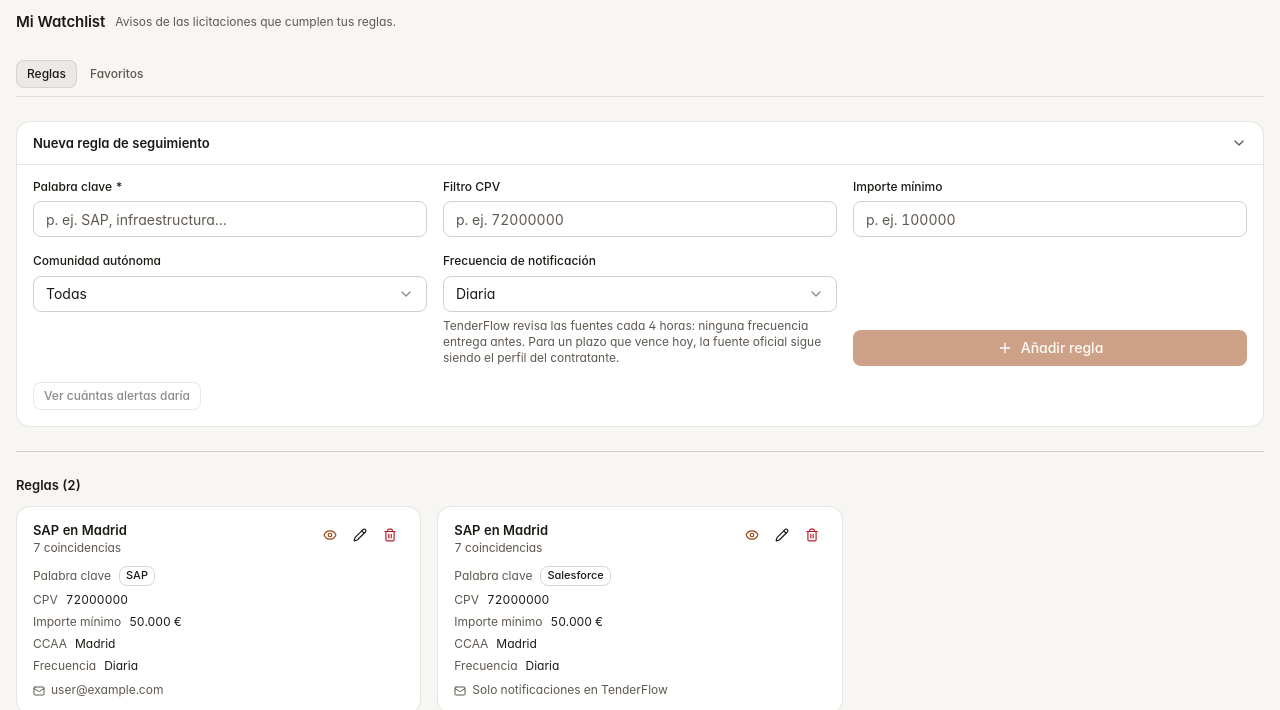
Scenario: MiWatchlistPage — edición de reglas › opens the edit sheet pre-filled with the rule's current values
Click the 1st button named "Editar regla" at [360, 535], box [346,521,374,549]
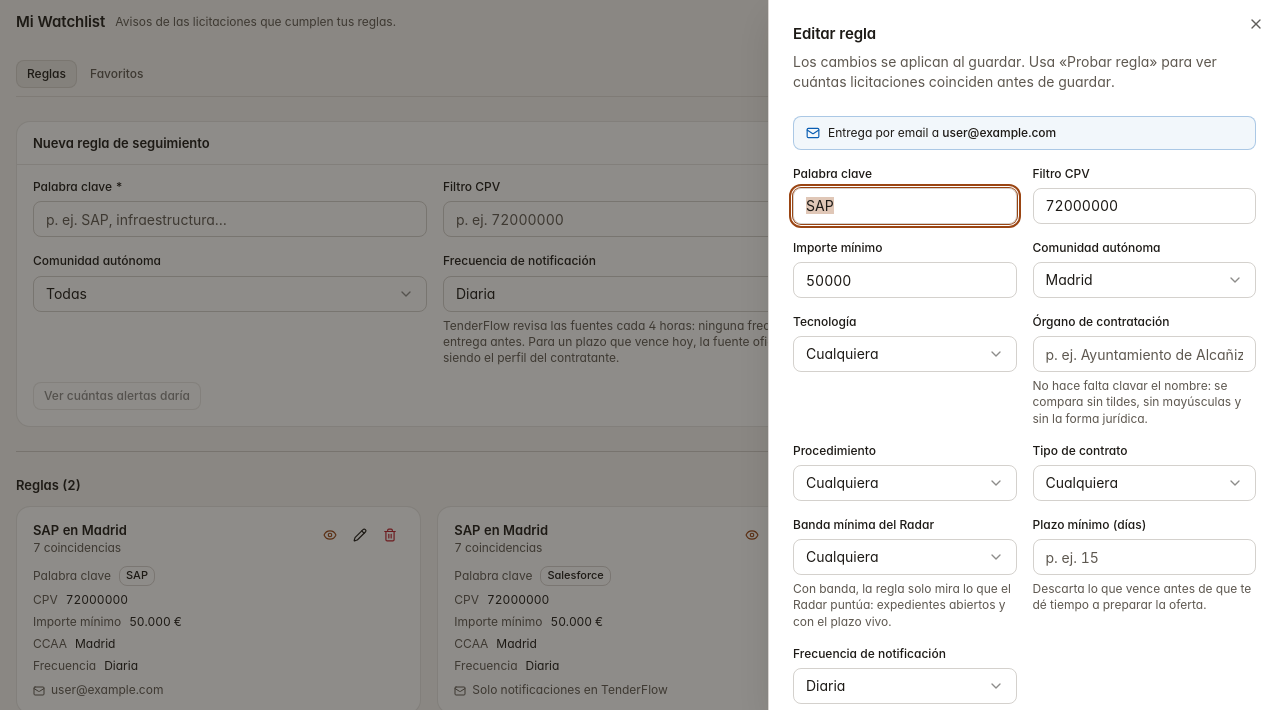
Expected: the heading "Editar regla" is shown, [793,24,876,43]
Expected: the field labelled "Palabra clave" holds "SAP", [793,188,1016,224]
Expected: the field labelled "Filtro CPV" holds "72000000", [1032,188,1256,224]
